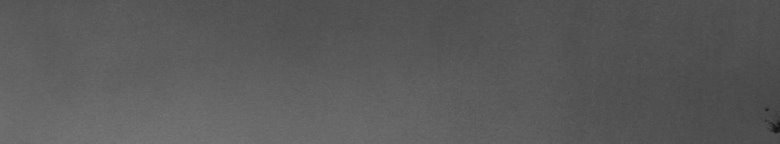fi: (764, 107, 776, 136)
